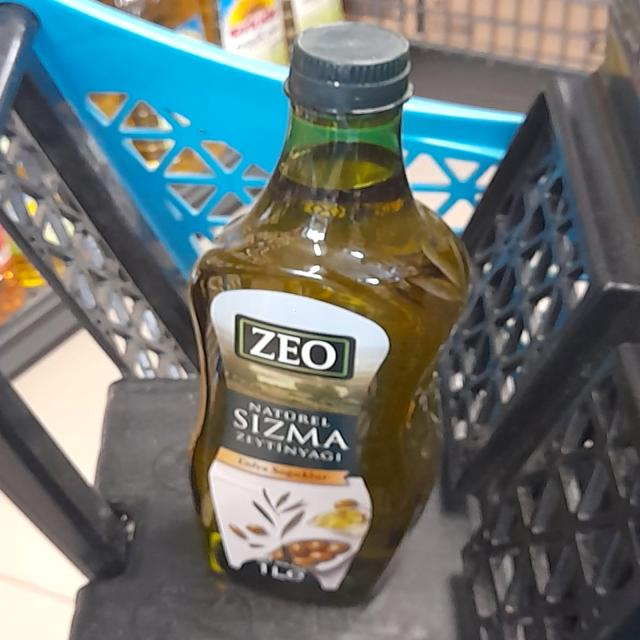olive oil: (160, 186, 479, 614)
